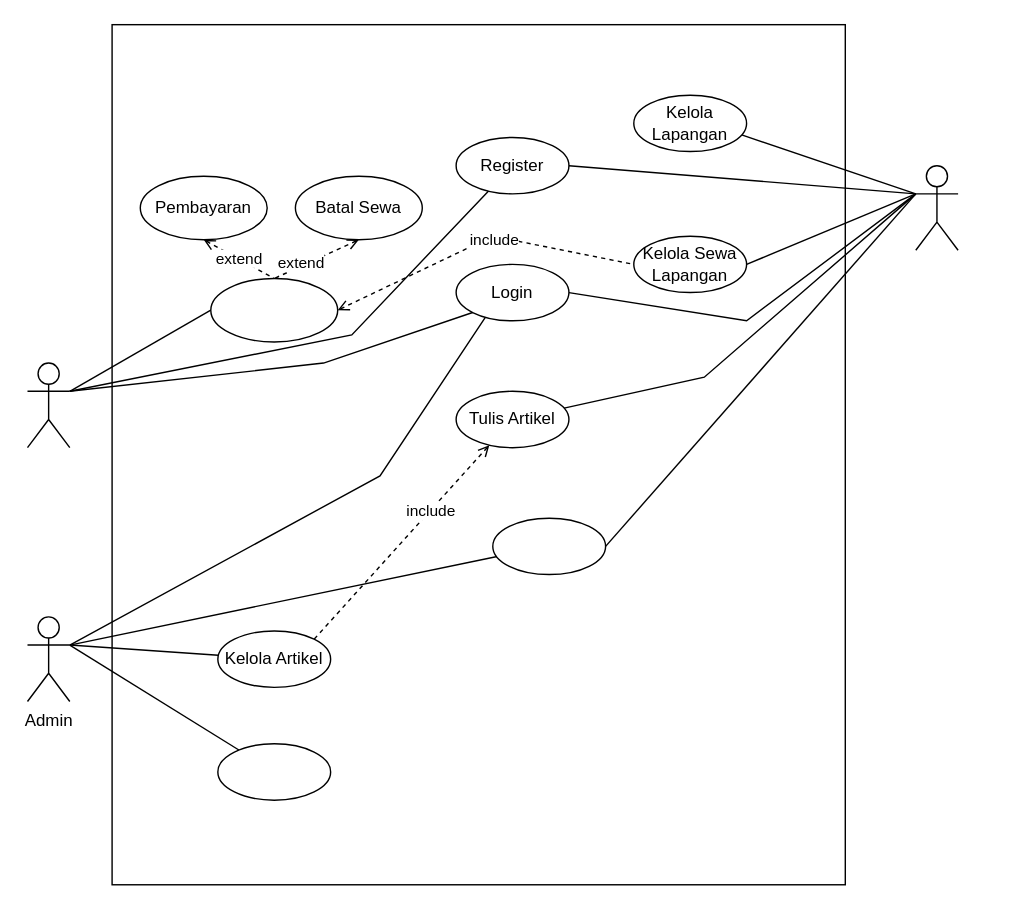
This 1028x909 diagram has some shape labels left out. Here are the shapes that lost their labels. From the top down, the centre of each, then its label:
the point at 936,207: Pemilik Lapangan
the point at 273,309: Sewa Lapangan
the point at 48,405: User
the point at 548,546: Kelola Event
the point at 273,771: Kelola User
